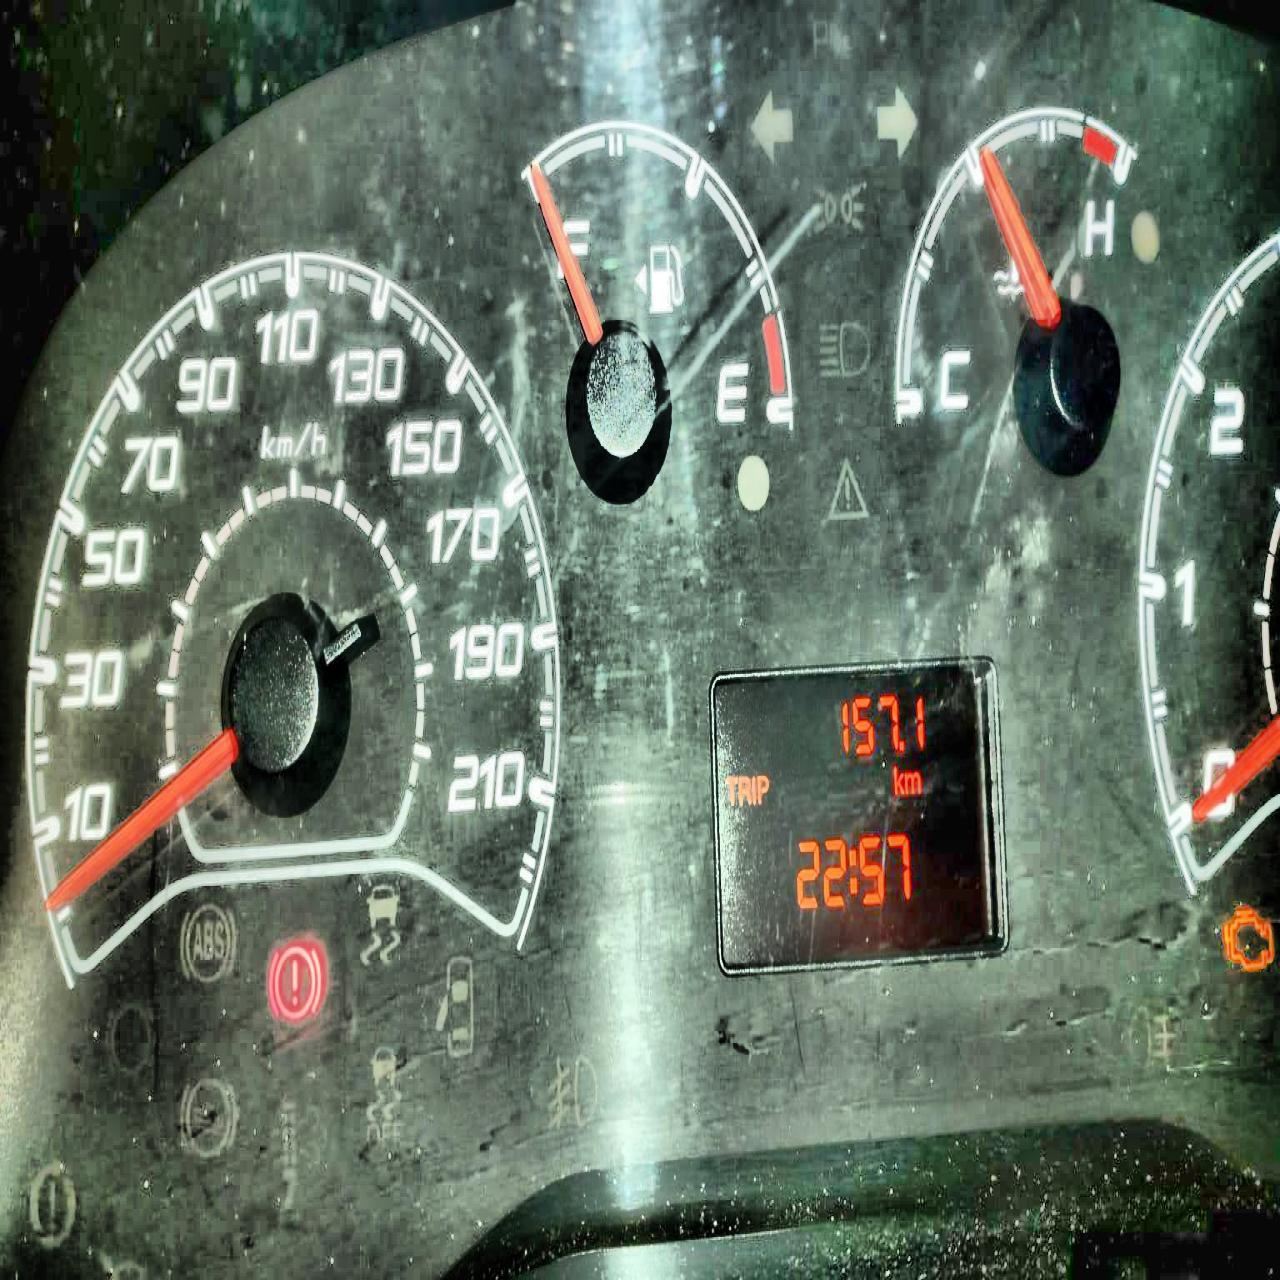-: (898, 738, 904, 751)
1: (840, 701, 850, 753), (914, 696, 924, 747)
2: (822, 838, 846, 906), (796, 840, 819, 910)
5: (858, 835, 884, 904), (852, 696, 873, 754)
7: (887, 832, 911, 899), (879, 695, 898, 748)
X: (847, 847, 858, 893), (904, 770, 921, 794), (724, 776, 737, 805), (737, 776, 750, 805), (892, 764, 904, 796), (756, 774, 768, 804), (750, 775, 756, 804)
odometer: (707, 651, 1010, 978)
